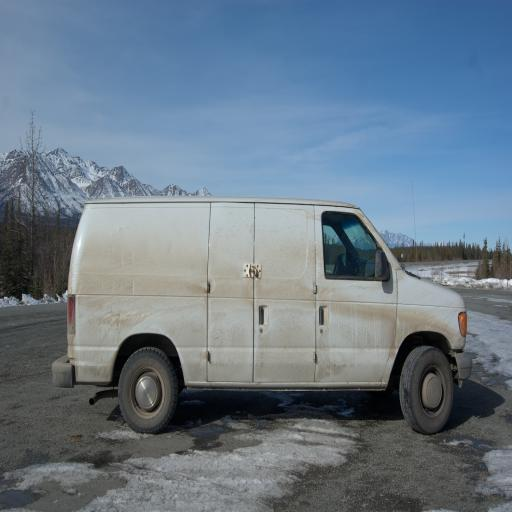van: (52, 196, 472, 433)
